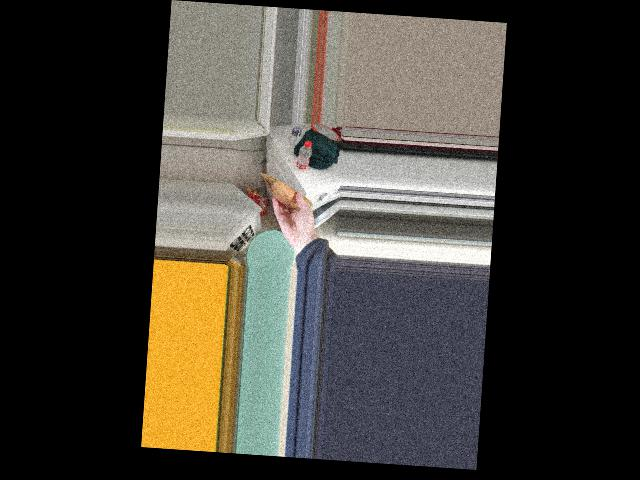sweet_potato: (273, 182, 308, 213)
